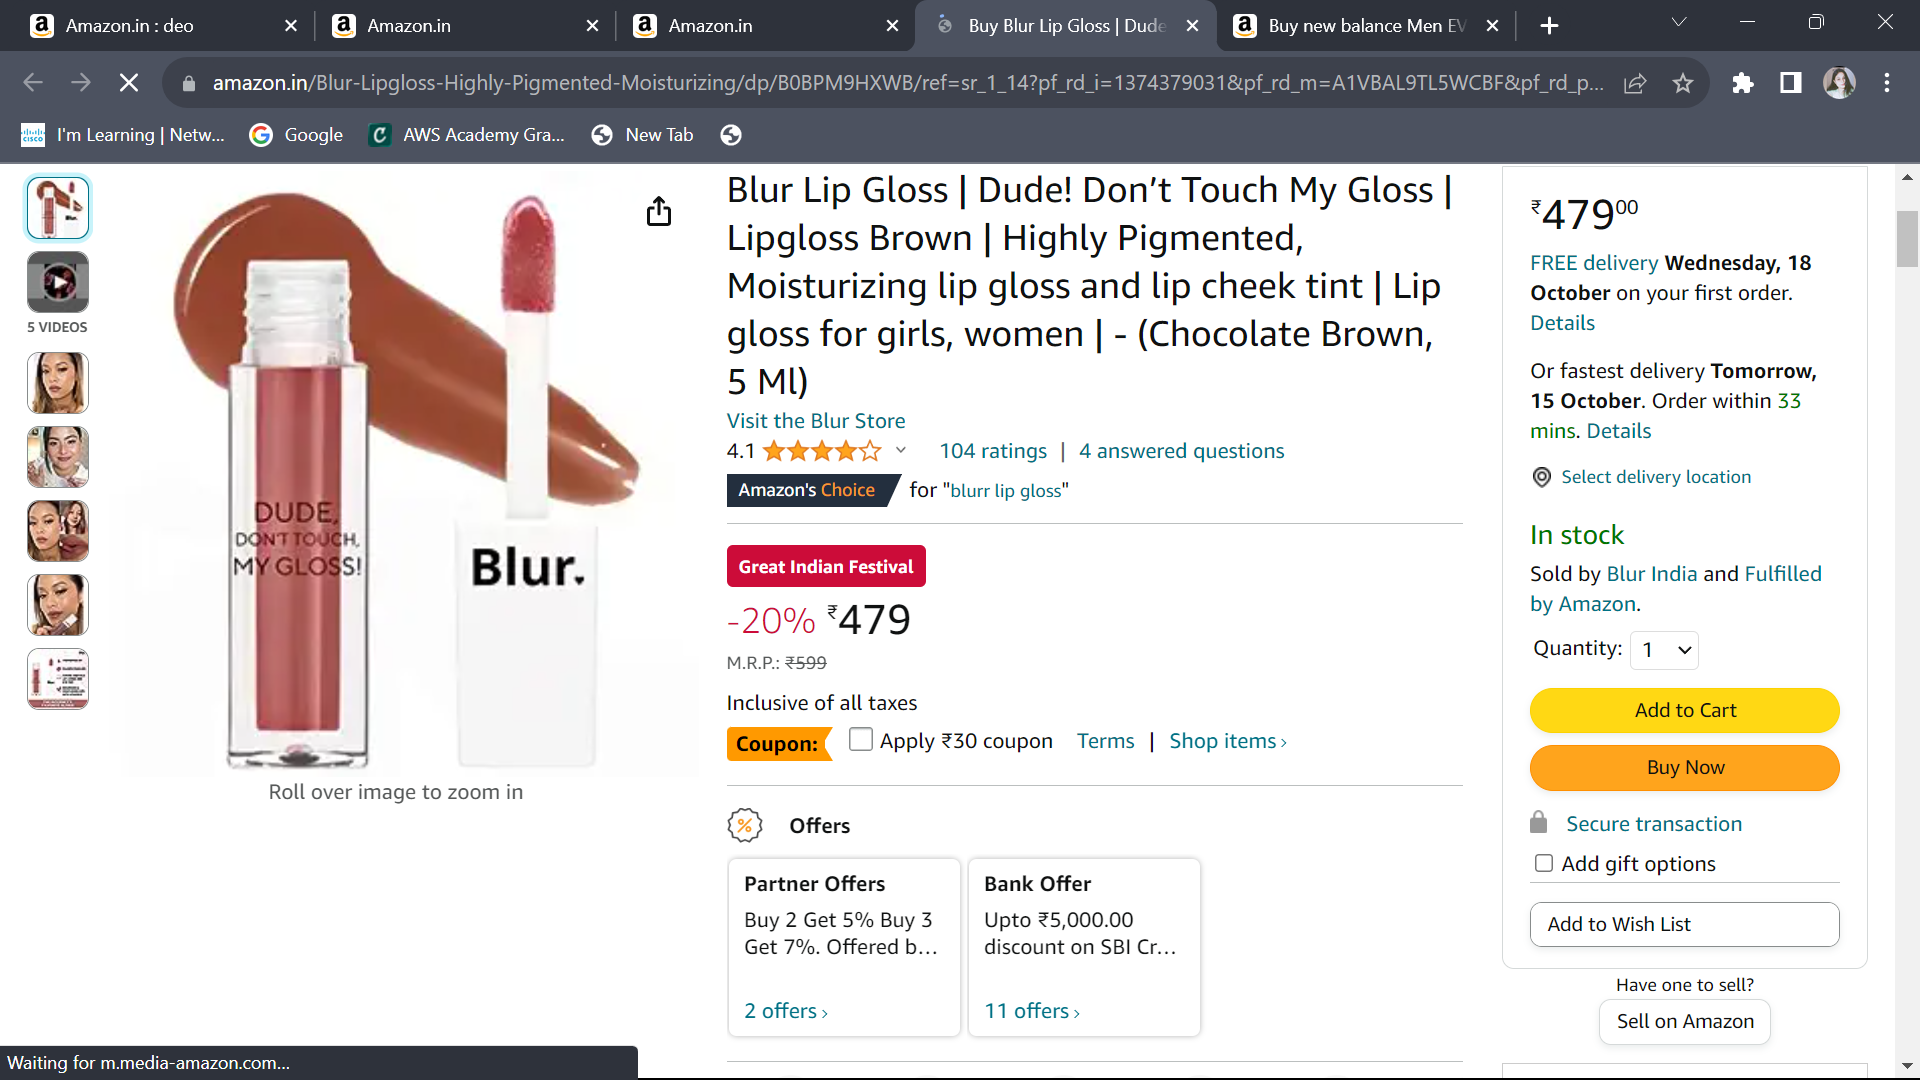Image: (113, 206, 690, 786)
Paragraph: (704, 161, 1511, 436), (716, 806, 1236, 1069), (1520, 239, 1837, 460), (711, 729, 1292, 798), (1516, 684, 1849, 798), (1526, 567, 1887, 640), (723, 600, 935, 657), (1528, 161, 1684, 236), (1523, 640, 1708, 692), (723, 687, 938, 716), (1514, 513, 1648, 555), (723, 651, 848, 671)
